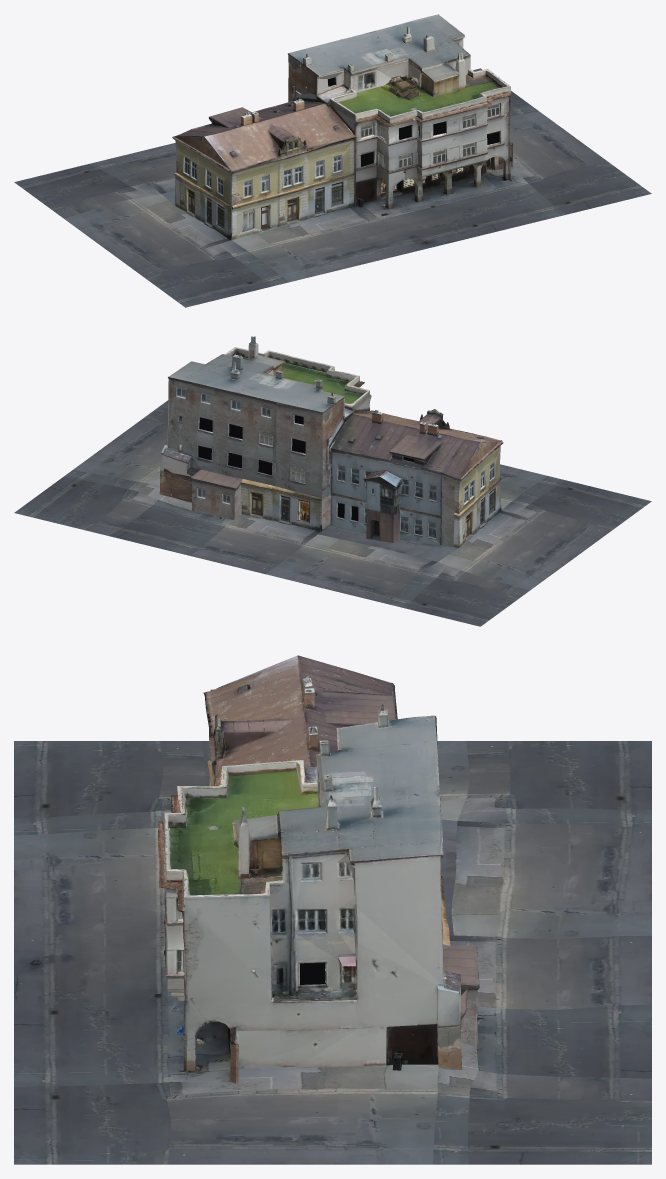
The model's file is shoprow.glb.
3 views of the same model, one above another, from view 1: azimuth 30°, elevation 25°; view 2: azimuth 150°, elevation 25°; view 3: azimuth 270°, elevation 25° (orthographic). The views are drawn at different scales.
Parts seen in each view (by area): view 1: Buildings; view 2: Buildings; view 3: Buildings.
Part boxes in pixels (x1,y1,x2,y2): Buildings: (14,14,651,307); Buildings: (14,336,651,626); Buildings: (14,655,651,1164).
Bounding box in the file's own units: 34 × 9.29 × 21.64.
3 materials, 3 textured.
